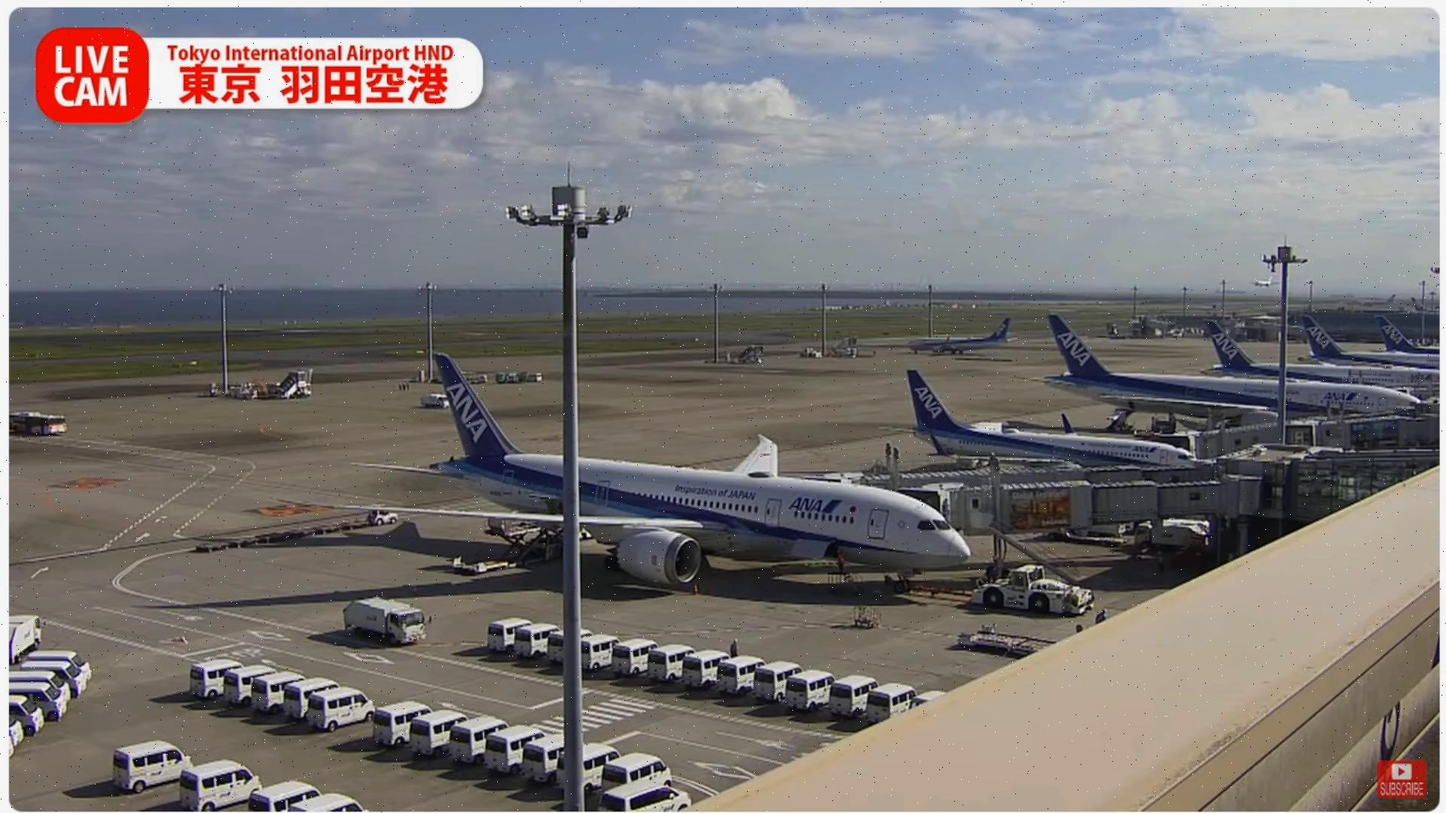APS: (969, 564, 1106, 619)
Aerobridge: (899, 476, 1264, 540), (843, 457, 1217, 496)
Airplane: (330, 354, 973, 599)
Baggage truck: (343, 596, 430, 643)
Dolly: (190, 516, 370, 555)
JCPL: (450, 522, 565, 575)
Tractor: (363, 501, 401, 528)
Window: (1290, 456, 1440, 523)
